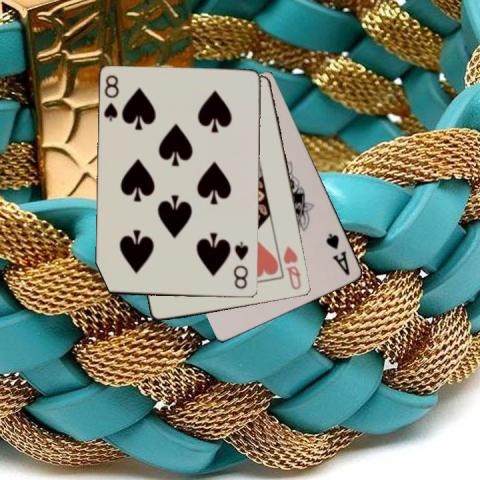8s: (101, 72, 121, 123), (231, 238, 250, 290)
As: (323, 230, 351, 277)
Qh: (281, 243, 303, 292)
